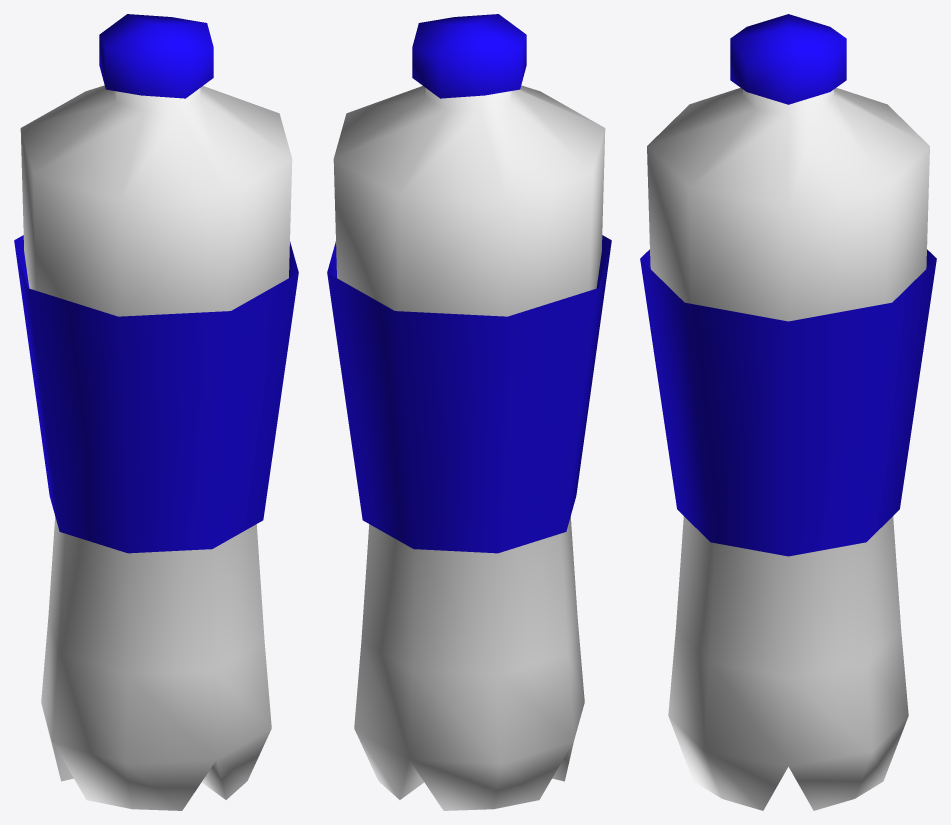
The model's file is Bottle.fbx.
3 views of the same model, side by side, from view 1: azimuth 30°, elevation 25°; view 2: azimuth 150°, elevation 25°; view 3: azimuth 270°, elevation 25° (orthographic).
Parts seen in each view (by area): view 1: Bottle, Label, Cap; view 2: Bottle, Label, Cap; view 3: Bottle, Label, Cap.
Boxes of the visible parts, x1=… form: Bottle: x1=20, y1=85, x2=292, y2=810; Label: x1=14, y1=235, x2=298, y2=553; Cap: x1=99, y1=14, x2=213, y2=98; Bottle: x1=333, y1=85, x2=605, y2=810; Label: x1=327, y1=235, x2=611, y2=553; Cap: x1=412, y1=14, x2=526, y2=98; Bottle: x1=647, y1=87, x2=929, y2=810; Label: x1=640, y1=249, x2=936, y2=556; Cap: x1=730, y1=14, x2=846, y2=104.
Bounding box in the file's own units: 26.56 × 73.27 × 26.56.
Materials: 1 (1 with a texture image).
